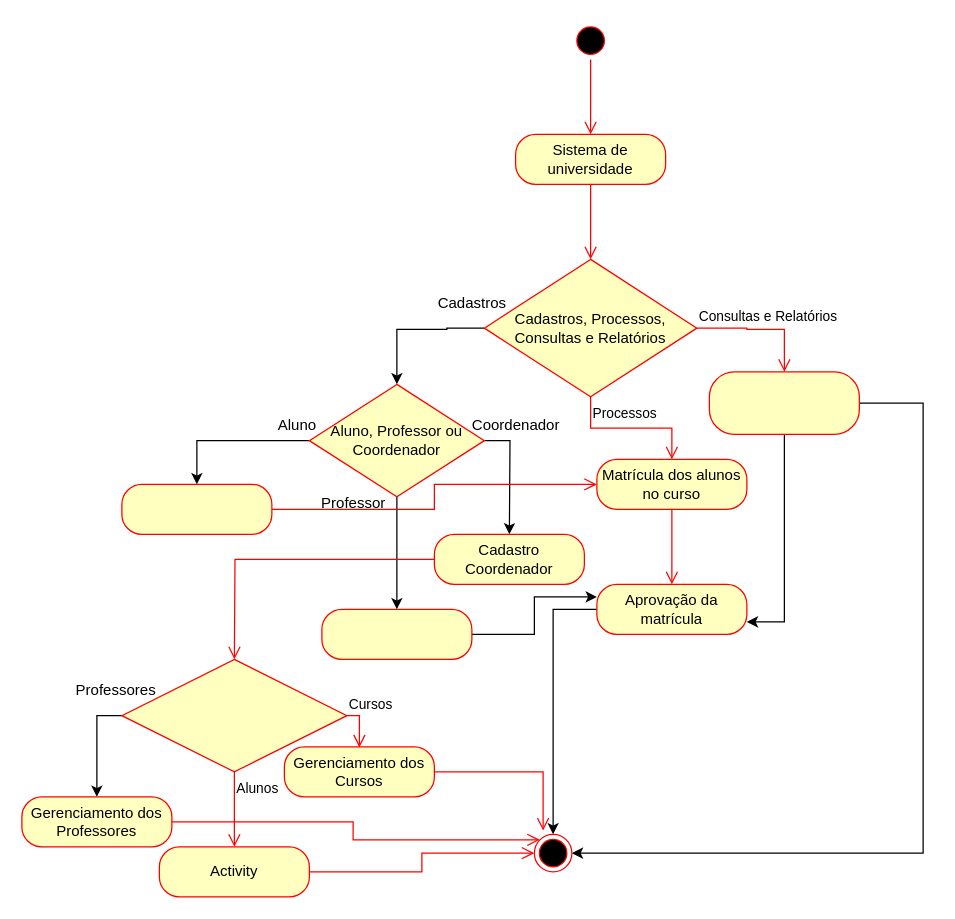
This 955x919 diagram has some shape labels left out. The shapes that lost their labels are listed below. From the top down, each one's centre as x and y in pixels, then its label:
the point at 783,402: Relatório da Aprovação da matrícula
the point at 196,508: Cadastro Aluno
the point at 396,633: Cadastro Professor
the point at 234,715: Gerenciar cursos, alunos, professores
